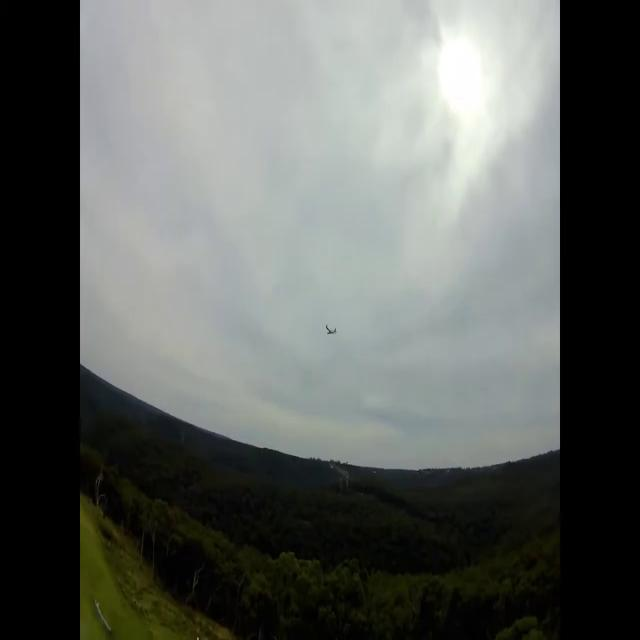iha: (318, 321, 331, 326)
